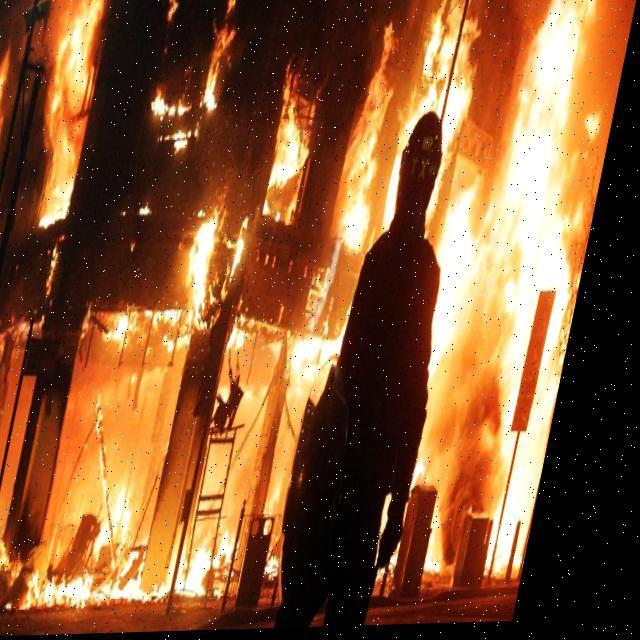Fire: (0, 0, 634, 606)
